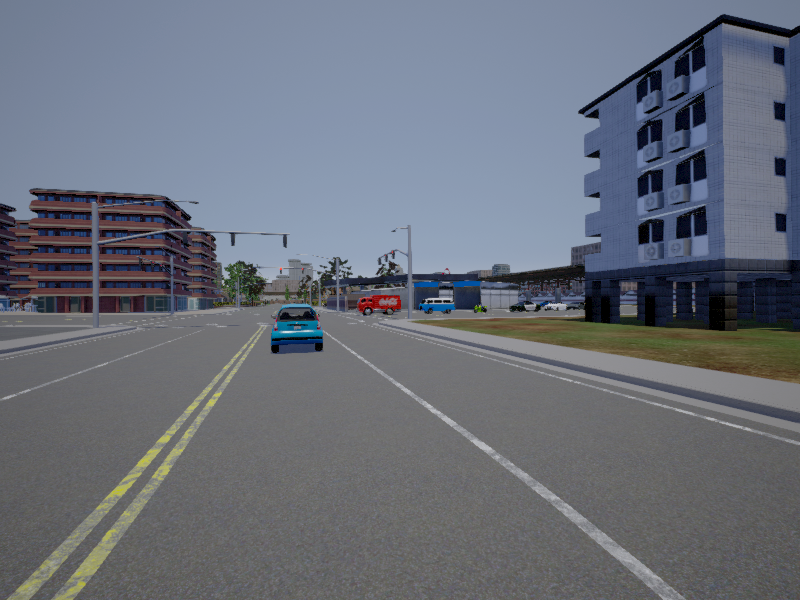Benign: (271, 304, 324, 353), (358, 296, 401, 315), (420, 297, 455, 316), (509, 299, 539, 313)
